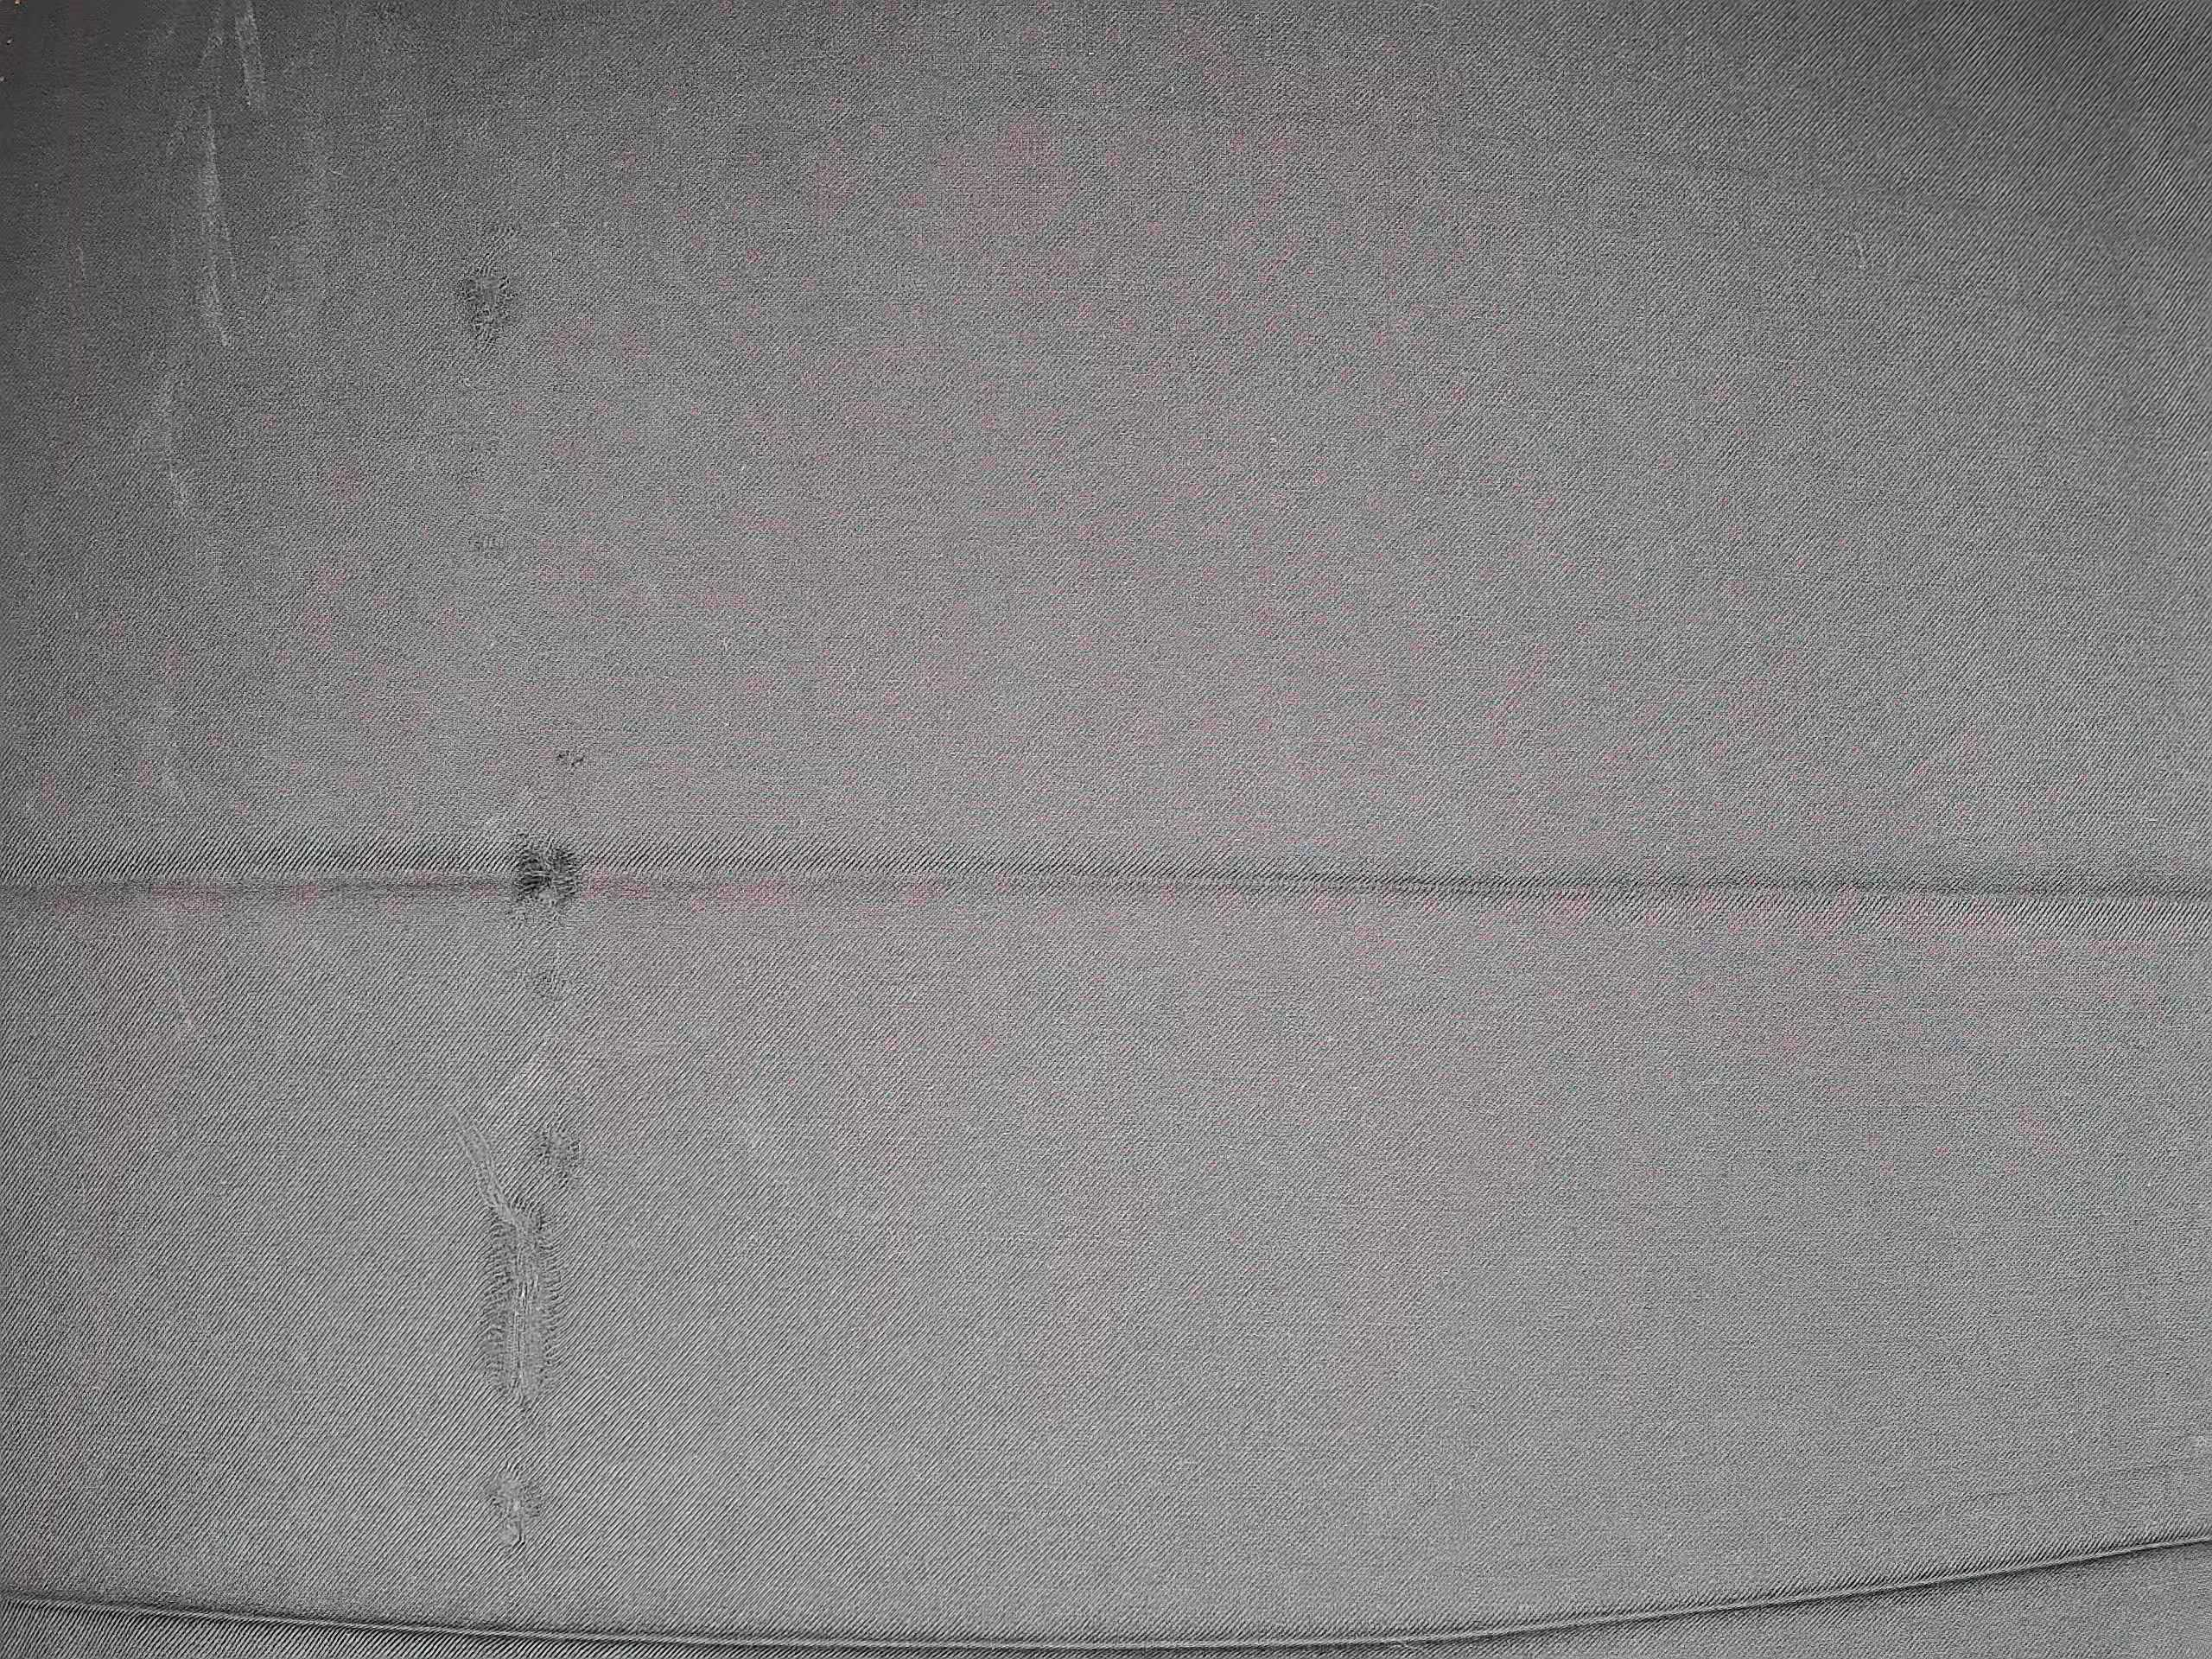rubbing-hole: (442, 1098, 617, 1582), (489, 809, 606, 951), (435, 246, 547, 373), (542, 732, 601, 788)
